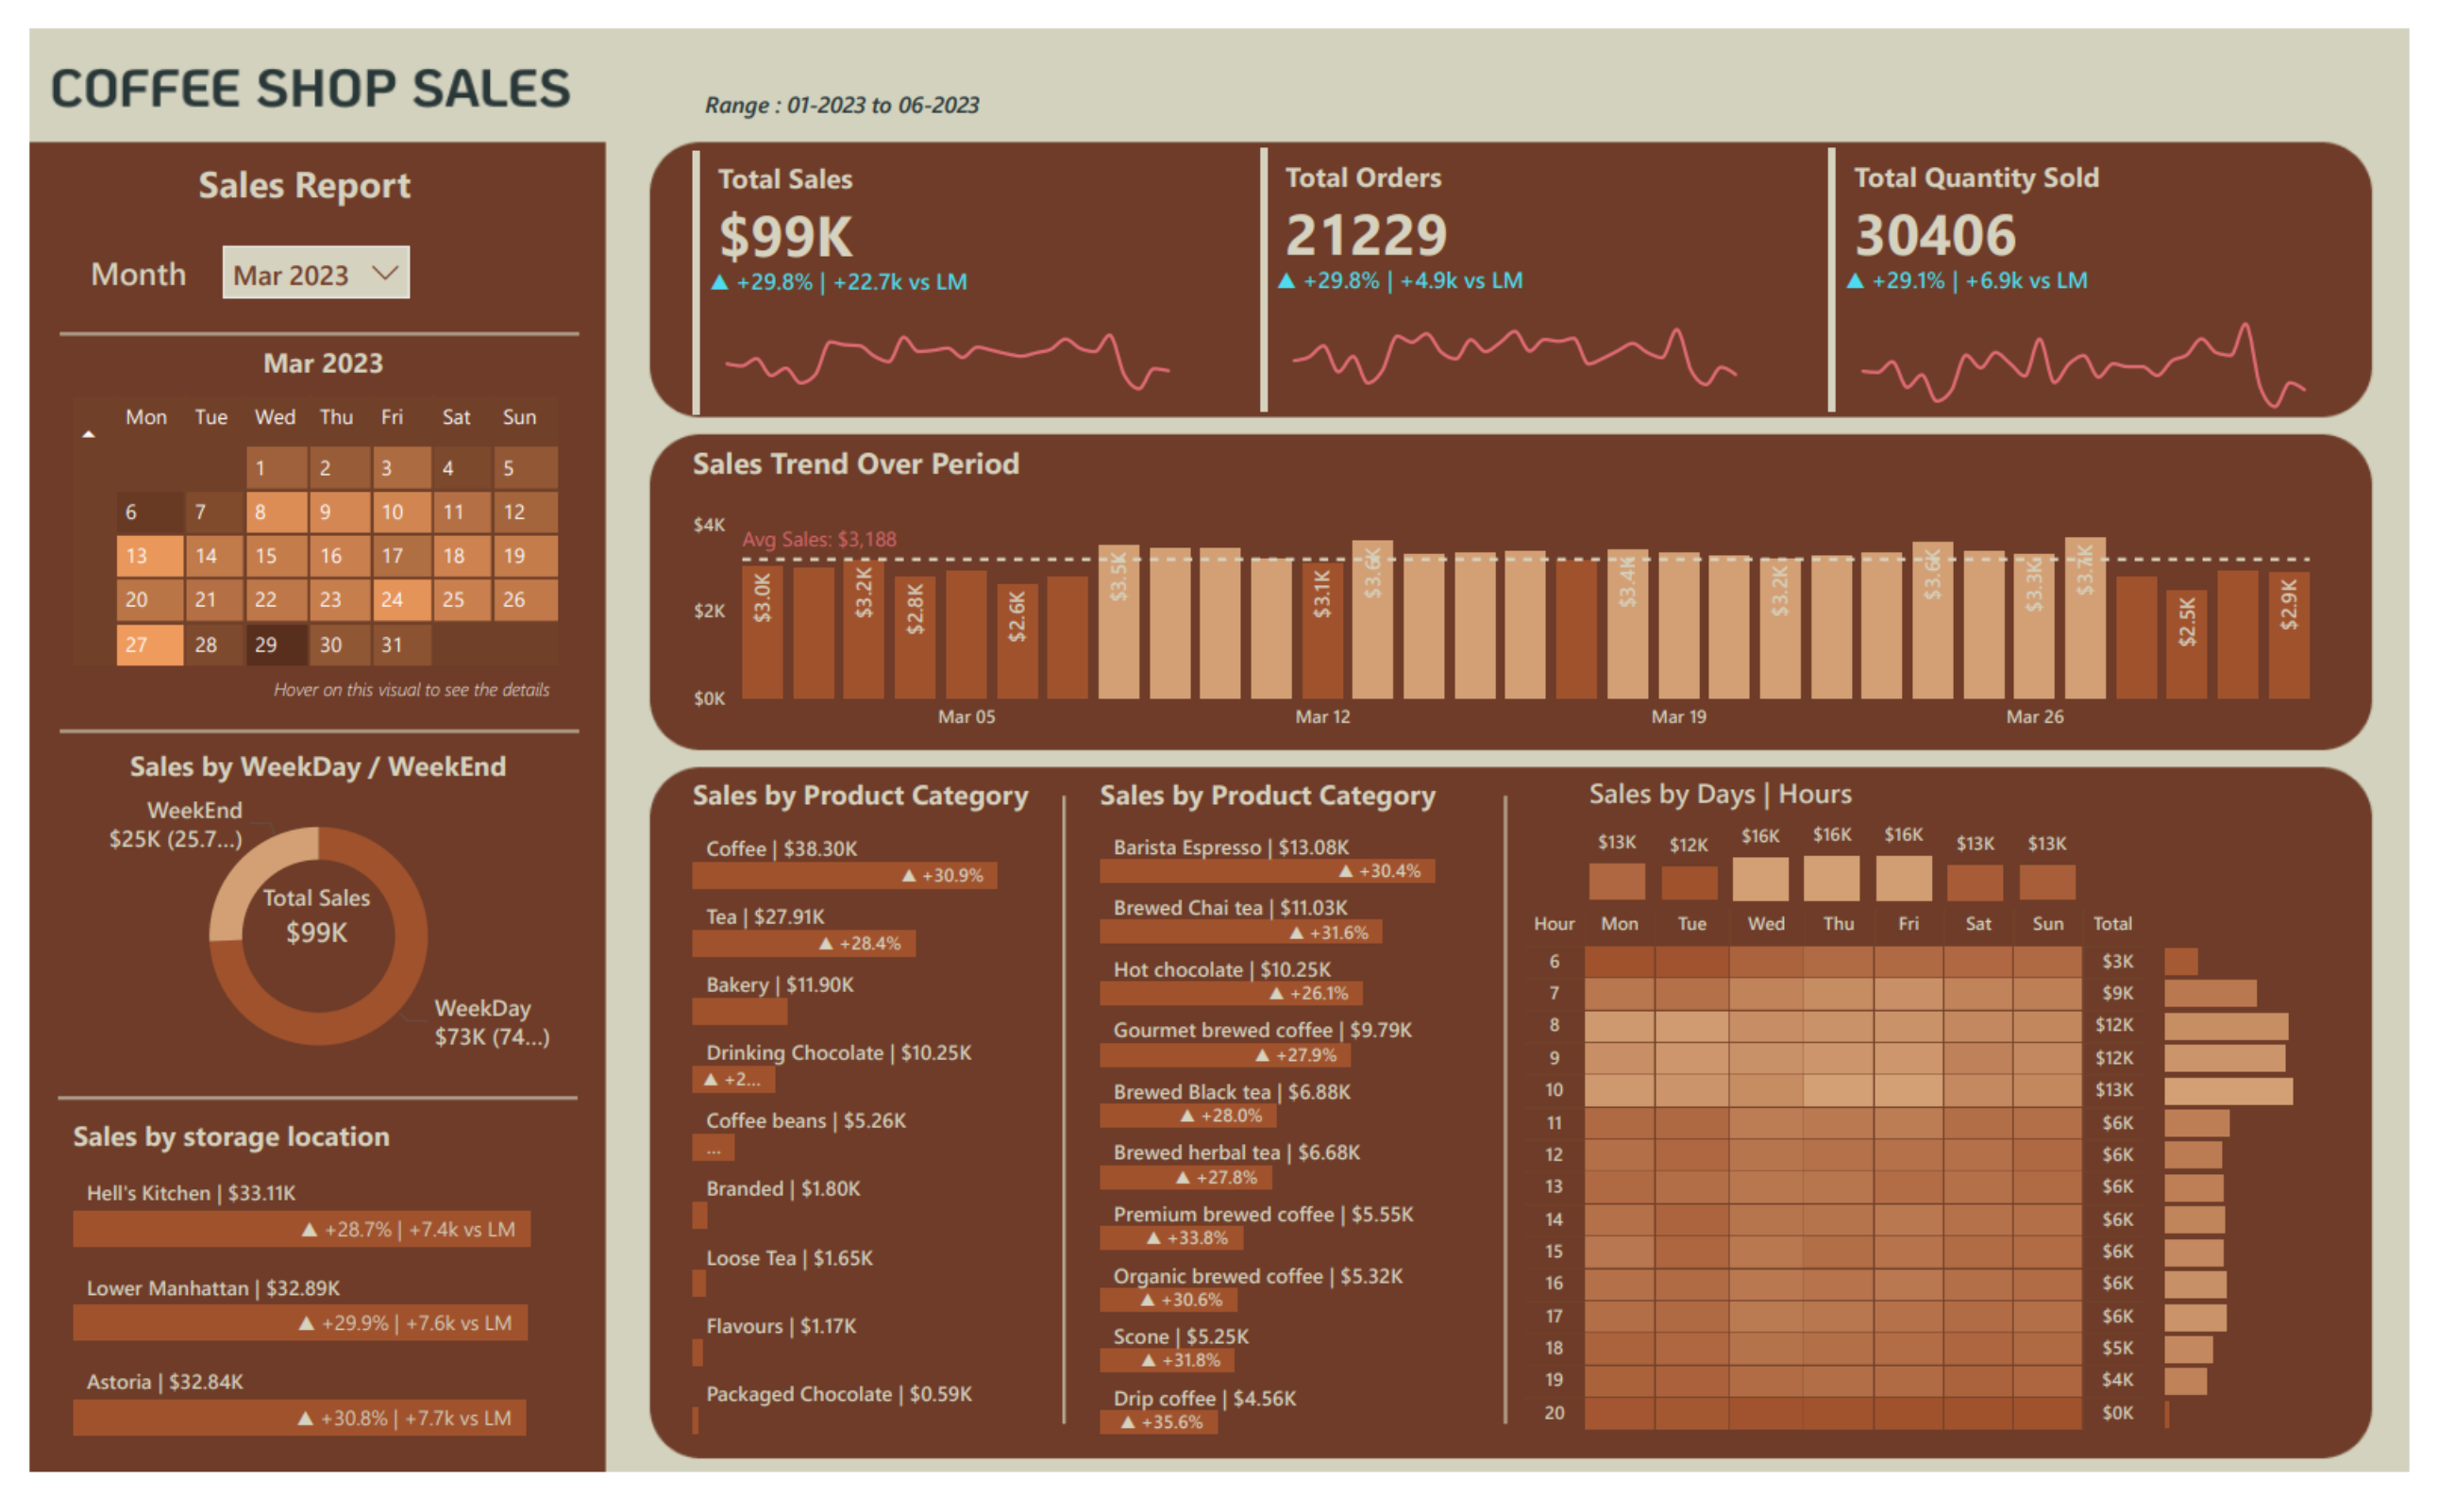

The dashboard page shown, as its layout file describes it:
{"tool":"powerbi","page":{"name":"Page 1","canvas":[1400,850],"ordinal":0},"visuals":[{"type":"cardVisual","fields":{"Data":["Measure.Total_Orders"]},"box":[719.2,66,300.2,165.1],"z":0,"group":"g2"},{"type":"cardVisual","fields":{"Data":["Measure.Total_Oty_Sold"]},"box":[1053.6,66,300.2,165.1],"z":0,"group":"g3"},{"type":"cardVisual","fields":{"Data":["Measure.Total_Sales"]},"box":[384.8,66.6,300.2,165.1],"z":0,"group":"g1"},{"type":"slicer","fields":{"Values":["Date_Table.1_month_year"]},"box":[103.3,118.3,130,61.7],"z":0},{"type":"group","id":"g1","title":"Group 1","box":[384.8,66.6,300.2,165.1],"z":1000},{"type":"group","id":"g2","title":"Group 1","box":[719.2,66,300.2,165.1],"z":2000},{"type":"lineChart","fields":{"Category":["Date_Table.Date.Variation.Date Hierarchy.Year","Date_Table.Date.Variation.Date Hierarchy.Quarter","Date_Table.Date.Variation.Date Hierarchy.Month","Date_Table.Date.Variation.Date Hierarchy.Day"],"Y":["Measure.Total_Orders"]},"box":[729.1,138.9,289.7,91.6],"z":2000,"group":"g2"},{"type":"lineChart","fields":{"Category":["Date_Table.Date.Variation.Date Hierarchy.Year","Date_Table.Date.Variation.Date Hierarchy.Quarter","Date_Table.Date.Variation.Date Hierarchy.Month","Date_Table.Date.Variation.Date Hierarchy.Day"],"Y":["Measure.Total_Oty_Sold"]},"box":[1063.5,138.9,289.7,91.6],"z":2000,"group":"g3"},{"type":"lineChart","fields":{"Category":["Date_Table.Date.Variation.Date Hierarchy.Year","Date_Table.Date.Variation.Date Hierarchy.Quarter","Date_Table.Date.Variation.Date Hierarchy.Month","Date_Table.Date.Variation.Date Hierarchy.Day"],"Y":["Measure.Total_Sales"]},"box":[394.7,139.5,289.7,91.6],"z":2000,"group":"g1"},{"type":"group","id":"g3","title":"Group 1","box":[1053.6,66,300.2,165.1],"z":3000},{"type":"group","id":"g4","title":"Group 2","box":[19.9,185.2,305.6,221.7],"z":4000},{"type":"pivotTable","fields":{"Rows":["Date_Table.Week_number"],"Columns":["Date_Table.Day_Name"],"Values":["Min(Date_Table.Day_number)"]},"box":[19.9,211.9,305.6,195],"z":4000,"group":"g4"},{"type":"shape","box":[16.7,165,306.7,30],"z":5000},{"type":"card","fields":{"Values":["Min(Date_Table.month_year)"]},"box":[123.2,185.2,98.9,26.7],"z":5000,"group":"g4"},{"type":"card","fields":{"Values":["Measure.Foot_note"]},"box":[123.2,377.4,202.2,24.4],"z":6000,"group":"g4"},{"type":"shape","box":[17.1,398.8,306.2,29.9],"z":6000},{"type":"donutChart","title":"Sales by WeekDay / WeekEnd","fields":{"Category":["Date_Table.WeekDay / WeekEnd"],"Y":["Measure.Total_Sales"]},"box":[17.1,423,304.8,200.8],"z":7000},{"type":"shape","box":[15.7,615.3,306.2,29.9],"z":8000},{"type":"card","title":"Total Sales","fields":{"Values":["Measure.Total_Sales"]},"box":[116.7,503.3,103.3,48.3],"z":9000},{"type":"clusteredBarChart","title":"Sales by storage location","fields":{"Category":["Transactions.store_location"],"Y":["Measure.Placeholder","Measure.Total_Sales"]},"box":[19.9,640.9,309.1,195.1],"z":10000},{"type":"card","fields":{"Values":["Measure.Slicer_label"]},"box":[15,123.3,101.7,45],"z":11000},{"type":"columnChart","title":"Sales Trend Over Period","fields":{"Category":["Transactions.transaction_date"],"Y":["Measure.Total_Sales"]},"box":[384.6,240.7,968.5,182.3],"z":12000},{"type":"clusteredBarChart","title":"Sales by Product Category","fields":{"Category":["Transactions.product_category"],"Y":["Measure.Placeholder","Measure.Total_Sales"]},"box":[384.6,440.4,215.1,393.1],"z":13000},{"type":"shape","box":[591.8,451.6,33,370.7],"z":14000},{"type":"clusteredBarChart","title":"Sales by Product Category","fields":{"Y":["Measure.Placeholder","Measure.Total_Sales"],"Category":["Transactions.product_type"]},"box":[625.3,440.4,235,393.1],"z":15000},{"type":"shape","box":[851.7,451.6,33,370.7],"z":16000},{"type":"group","id":"g5","title":"Group 3","box":[874.5,439.1,477.1,395.7],"z":17000},{"type":"pivotTable","fields":{"Rows":["Transactions.Hour"],"Columns":["Date_Table.Day_Name"],"Values":["Measure.Total_Sales"]},"box":[874.5,518.7,380.3,316.2],"z":17000,"group":"g5"},{"type":"textbox","box":[94,72,145,40],"z":18000},{"type":"barChart","fields":{"Category":["Transactions.Hour"],"Y":["Measure.Total_Sales"]},"box":[1251.9,528.6,99.7,300.5],"z":18000,"group":"g5"},{"type":"card","fields":{"Values":["Measure.Range"]},"box":[364.6,28.5,226.5,37],"z":19000},{"type":"columnChart","title":"Sales by Days | Hours","fields":{"Category":["Date_Table.Day_Name"],"Y":["Measure.Total_Sales"]},"box":[913,439.1,296.2,75.5],"z":19000,"group":"g5"}]}

Visuals, with their boxes in screenshot pixels (x1, y1, x2, y2), scaled from the page's 1400x850 canvas onto the 2438x1512 screenshot:
cardVisual - Measure.Total_Orders: select_region(1253, 117, 1775, 412)
cardVisual - Measure.Total_Oty_Sold: select_region(1835, 117, 2358, 412)
cardVisual - Measure.Total_Sales: select_region(670, 119, 1193, 412)
slicer - Date_Table.1_month_year: select_region(180, 210, 406, 320)
"Group 1" group: select_region(670, 119, 1193, 412)
"Group 1" group: select_region(1253, 117, 1775, 412)
lineChart - Date_Table.Date.Variation.Date Hierarchy.Year x Date_Table.Date.Variation.Date Hierarchy.Quarter: select_region(1269, 247, 1774, 410)
lineChart - Date_Table.Date.Variation.Date Hierarchy.Year x Date_Table.Date.Variation.Date Hierarchy.Quarter: select_region(1852, 247, 2357, 410)
lineChart - Date_Table.Date.Variation.Date Hierarchy.Year x Date_Table.Date.Variation.Date Hierarchy.Quarter: select_region(687, 248, 1192, 412)
"Group 1" group: select_region(1835, 117, 2358, 412)
"Group 2" group: select_region(35, 329, 567, 724)
pivotTable - Date_Table.Week_number x Date_Table.Day_Name: select_region(35, 377, 567, 724)
shape: select_region(29, 294, 563, 347)
card - Min(Date_Table.month_year): select_region(214, 329, 387, 377)
card - Measure.Foot_note: select_region(214, 671, 566, 714)
shape: select_region(30, 710, 563, 763)
"Sales by WeekDay / WeekEnd" donutChart: select_region(30, 752, 561, 1110)
shape: select_region(27, 1095, 561, 1148)
"Total Sales" card: select_region(203, 896, 383, 982)
"Sales by storage location" clusteredBarChart: select_region(35, 1140, 573, 1487)
card - Measure.Slicer_label: select_region(26, 219, 203, 299)
"Sales Trend Over Period" columnChart: select_region(670, 428, 2356, 752)
"Sales by Product Category" clusteredBarChart: select_region(670, 783, 1044, 1483)
shape: select_region(1031, 803, 1088, 1463)
"Sales by Product Category" clusteredBarChart: select_region(1089, 783, 1498, 1483)
shape: select_region(1483, 803, 1540, 1463)
"Group 3" group: select_region(1522, 781, 2354, 1485)
pivotTable - Transactions.Hour x Date_Table.Day_Name: select_region(1522, 923, 2185, 1486)
textbox: select_region(163, 128, 416, 199)
barChart - Transactions.Hour x Measure.Total_Sales: select_region(2180, 940, 2354, 1475)
card - Measure.Range: select_region(635, 51, 1030, 116)
"Sales by Days | Hours" columnChart: select_region(1589, 781, 2106, 916)
